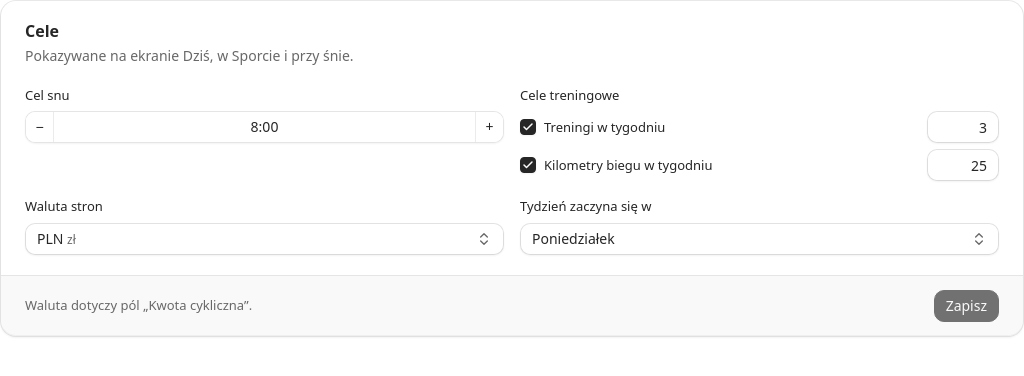
GoalsCard › wyłączenie celu ze złą liczbą przywraca zapisaną (bez ukrytego błędu)
The image size is (1024, 376).
Replace the text in the field named "Treningi w tygodniu" in the row of "Treningi w tygodniu" with "20" at [963, 127], box 927,111 -> 999,143
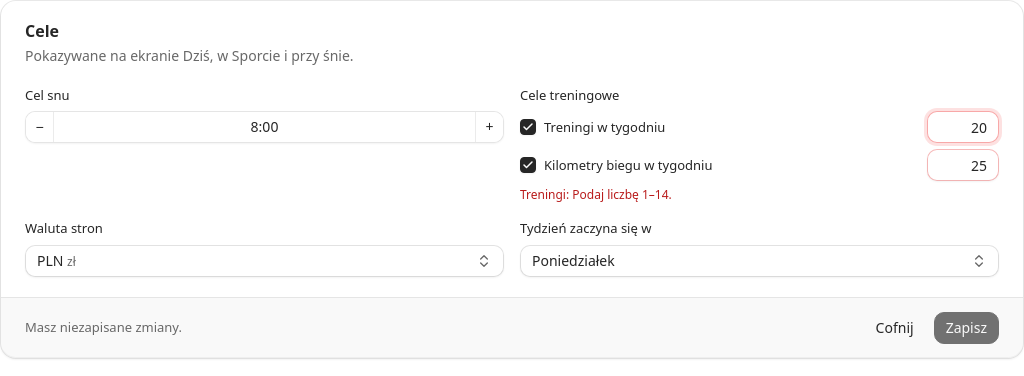
Click the checkbox named "Treningi w tygodniu".
click(528, 127)  # box 520,119 -> 536,135
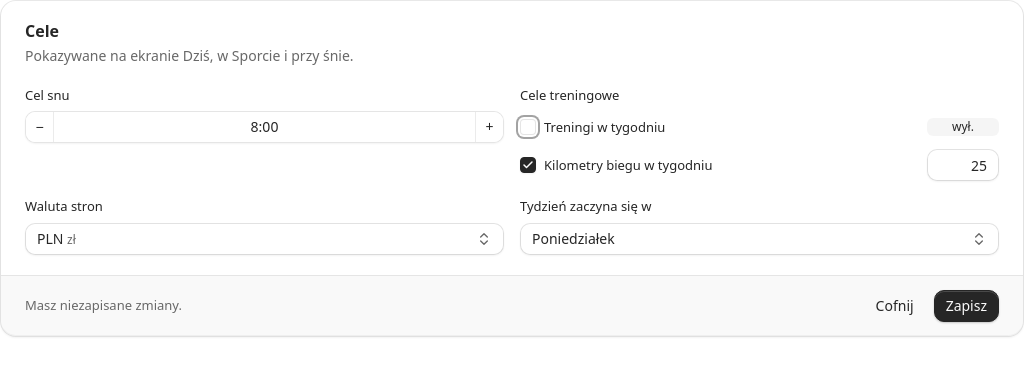
Result: the text "Podaj liczbę" is gone
Click the checkbox named "Treningi w tygodniu".
click(528, 127)  # box 520,119 -> 536,135
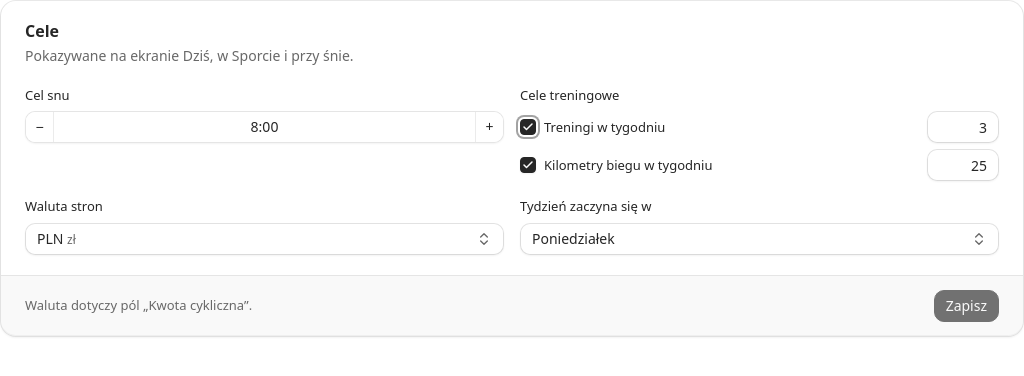
Result: the field named "Treningi w tygodniu" in the row of "Treningi w tygodniu" holds "3" at 927,111 -> 999,143
